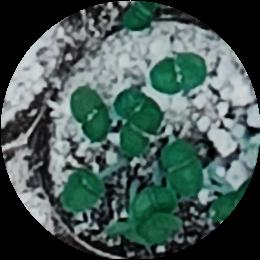Basil: (72, 87, 114, 142), (140, 190, 180, 241), (162, 144, 200, 197), (115, 89, 164, 128), (155, 55, 203, 92), (122, 111, 156, 156), (64, 170, 97, 216), (120, 0, 162, 31)
